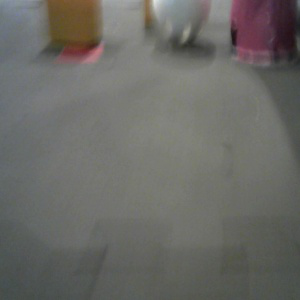right: (231, 1, 300, 66)
